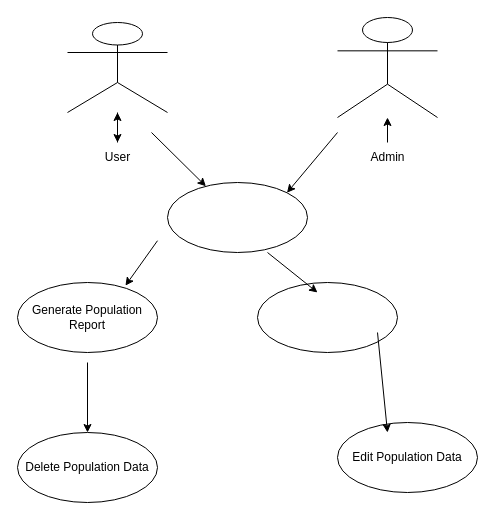
Some shapes in this 495 by 520 pixel diagram are drawn without their labels. The shapes that lost their labels are listed below. From the top down, each one's box as (x1, y1, x2, y2) in pixels, then its label:
(166, 182, 308, 252): View Population Data
(256, 282, 398, 352): Add Population Data
